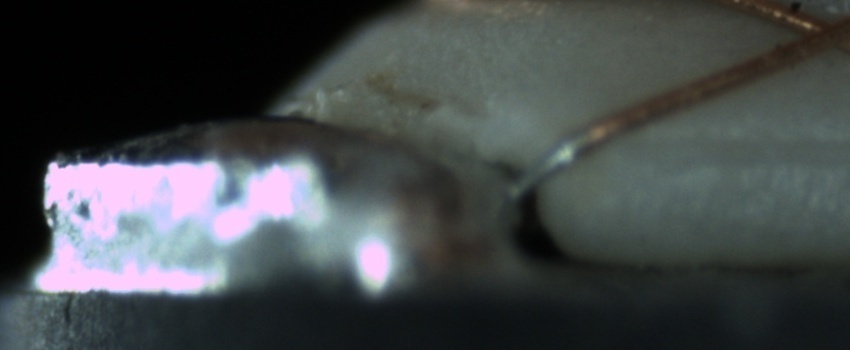CL: (771, 3, 850, 62)
DL: (626, 108, 844, 180)
TS: (510, 132, 594, 200)
TTCW: (514, 115, 609, 199)
